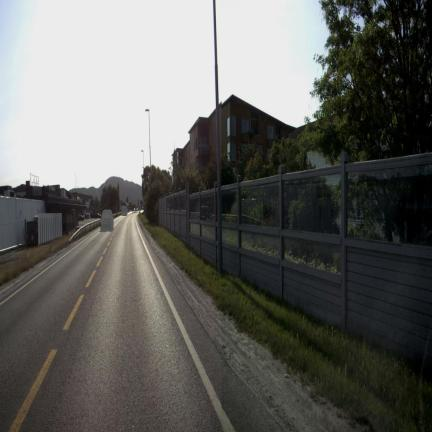Road: (0, 214, 279, 430)
